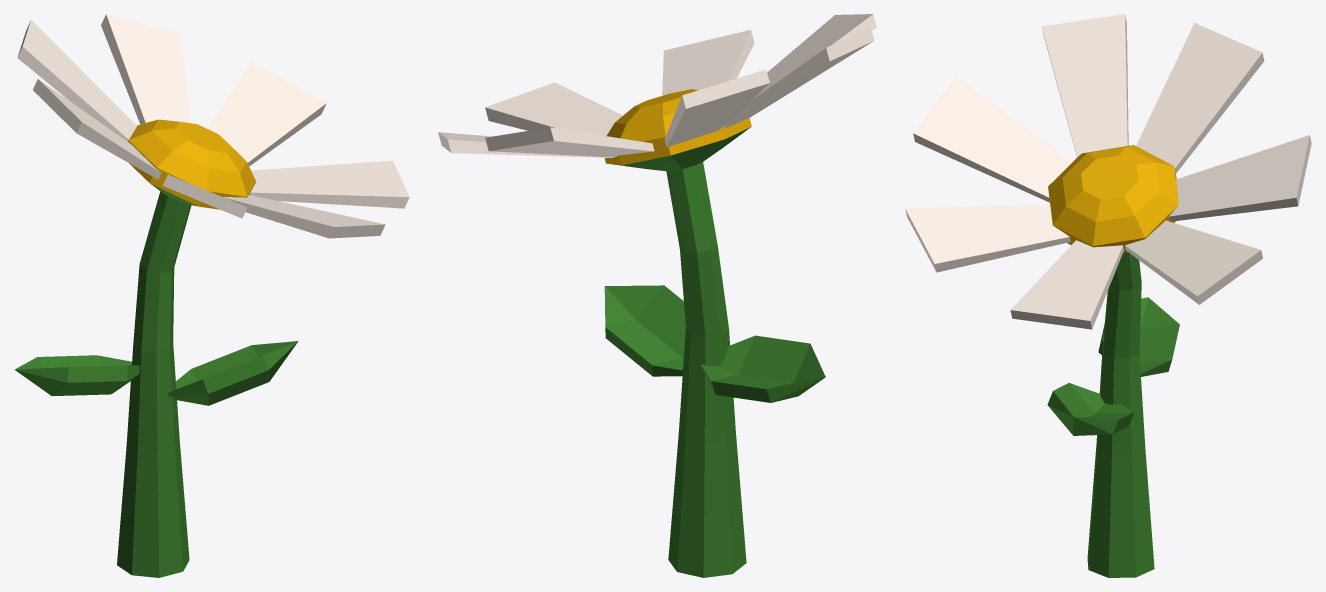
Rendered from flower1.fbx.
3 views of the same model, side by side, from view 1: azimuth 30°, elevation 25°; view 2: azimuth 150°, elevation 25°; view 3: azimuth 270°, elevation 25° (orthographic). The views are drawn at different scales.
Visible parts, largest first — view 1: Flower1; view 2: Flower1; view 3: Flower1.
Part boxes in pixels (x1,y1,x2,y2): Flower1: [14, 14, 409, 577]; Flower1: [438, 14, 876, 577]; Flower1: [905, 14, 1311, 577].
Size of the model in its own units: 233 by 327 by 242.
